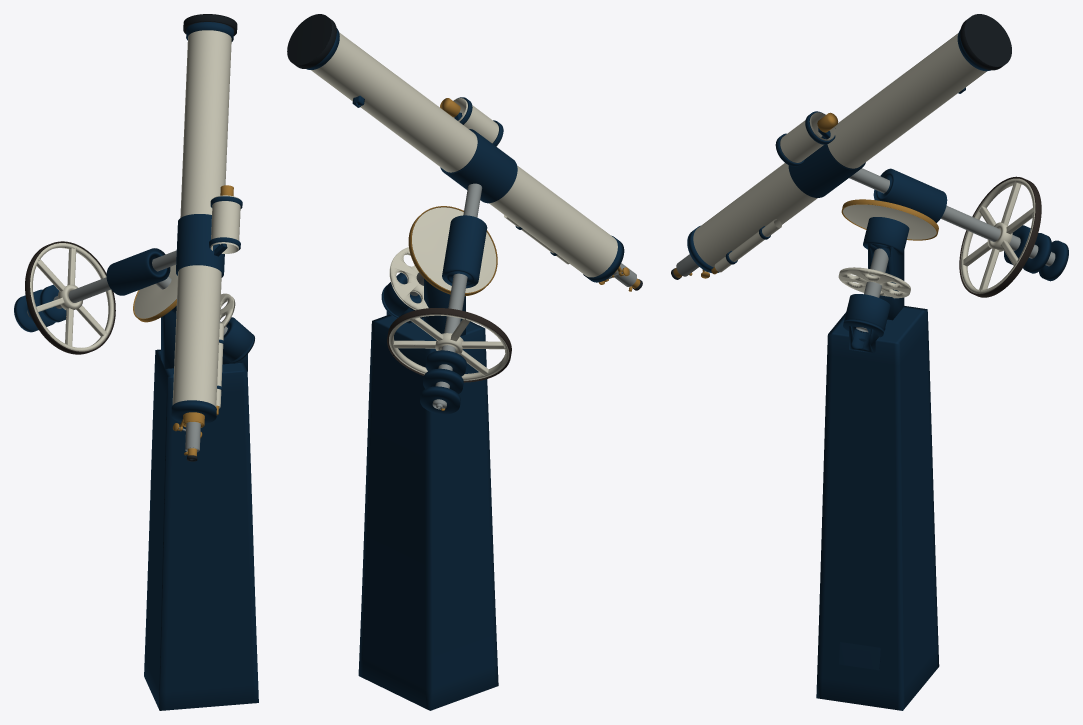
Rendered from observatory-telescope-02.glb.
3 views of the same model, side by side, from view 1: azimuth 30°, elevation 25°; view 2: azimuth 150°, elevation 25°; view 3: azimuth 270°, elevation 25° (orthographic). The views are drawn at different scales.
Parts seen in each view (by area): view 1: painted_steel, steel, brass; view 2: painted_steel, steel, brass; view 3: painted_steel, steel, brass.
Part boxes in pixels (<box>): painted_steel: <box>14,14,258,710</box>; steel: <box>27,250,227,452</box>; brass: <box>133,185,233,456</box>; painted_steel: <box>287,14,624,710</box>; steel: <box>410,183,636,409</box>; brass: <box>408,98,640,410</box>; painted_steel: <box>687,14,1068,710</box>; steel: <box>676,168,1055,332</box>; brass: <box>673,112,938,278</box>.
Size of the model in its own units: 1.87 by 5.52 by 2.87.
